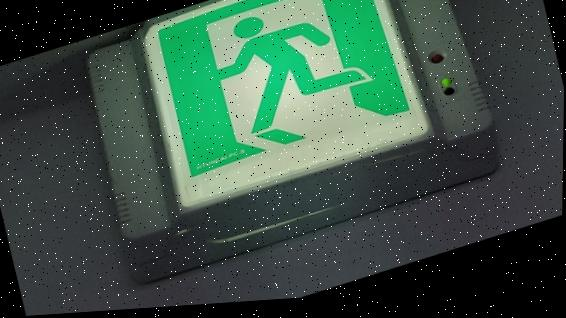emergency_exit: (2, 1, 563, 314), (140, 0, 434, 211)
